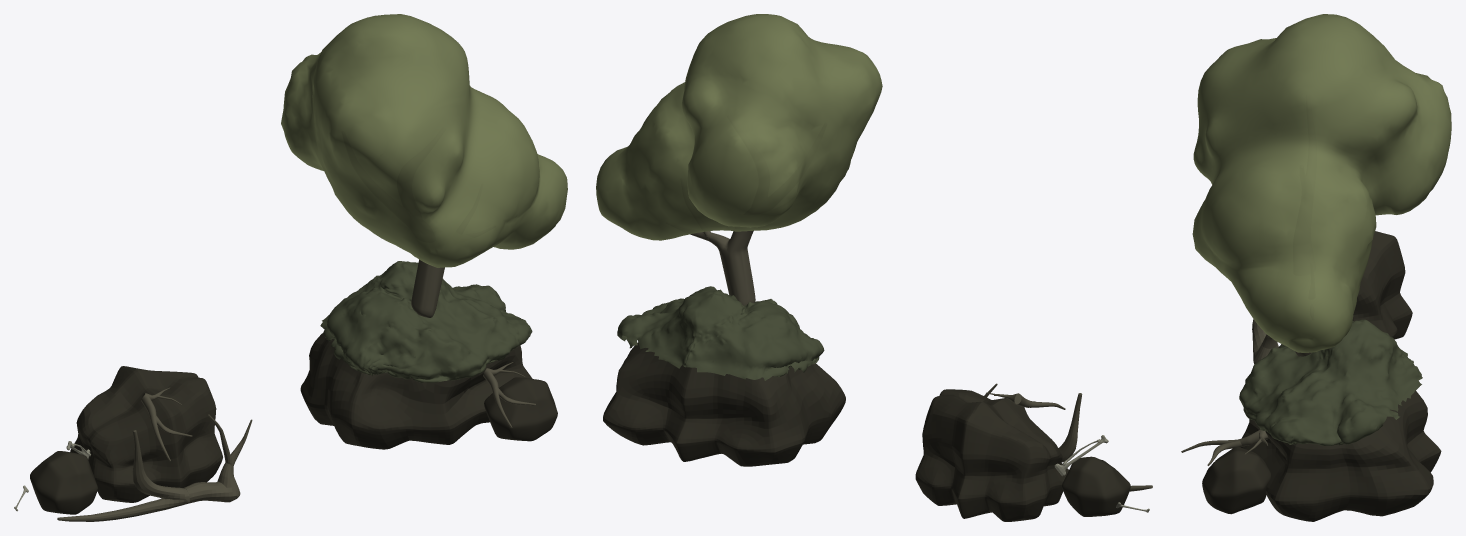
The model's file is BackgroundAssets.fbx.
3 renders of one model, left to right at view 1: azimuth 30°, elevation 25°; view 2: azimuth 150°, elevation 25°; view 3: azimuth 270°, elevation 25°, orthographic. The views are drawn at different scales.
Visible parts, largest first — view 1: Foliage, grass, DirtPile, DirtBigPile, rootBig, DirtUnit2, DirtUnit, rootUnit (×2), tree; view 2: Foliage, DirtBigPile, DirtPile, grass, DirtUnit, tree, rootBig; view 3: Foliage, grass, DirtBigPile, DirtPile, DirtUnit2, rootUnit, rootBig.
Boxes of the visible parts, box(x1,y1,x2,y2) form: Foliage: box(281, 14, 567, 267); grass: box(320, 261, 532, 382); DirtPile: box(70, 366, 222, 502); DirtBigPile: box(300, 332, 532, 449); rootBig: box(57, 414, 252, 521); DirtUnit2: box(484, 377, 557, 441); DirtUnit: box(30, 451, 97, 514); rootUnit (×2): box(141, 362, 535, 461); tree: box(411, 259, 444, 317); Foliage: box(596, 14, 882, 240); DirtBigPile: box(603, 342, 845, 466); DirtPile: box(915, 389, 1068, 521); grass: box(617, 286, 824, 380); DirtUnit: box(1062, 456, 1130, 516); tree: box(690, 230, 755, 305); rootBig: box(984, 383, 1152, 491); Foliage: box(1192, 14, 1451, 352); grass: box(1239, 319, 1422, 445); DirtBigPile: box(1240, 390, 1441, 521); DirtPile: box(1352, 231, 1412, 339); DirtUnit2: box(1202, 447, 1270, 514); rootUnit: box(1181, 429, 1268, 465); rootBig: box(1252, 319, 1278, 363).
Bounding box in the file's own units: 8.93 × 6.52 × 3.59.
